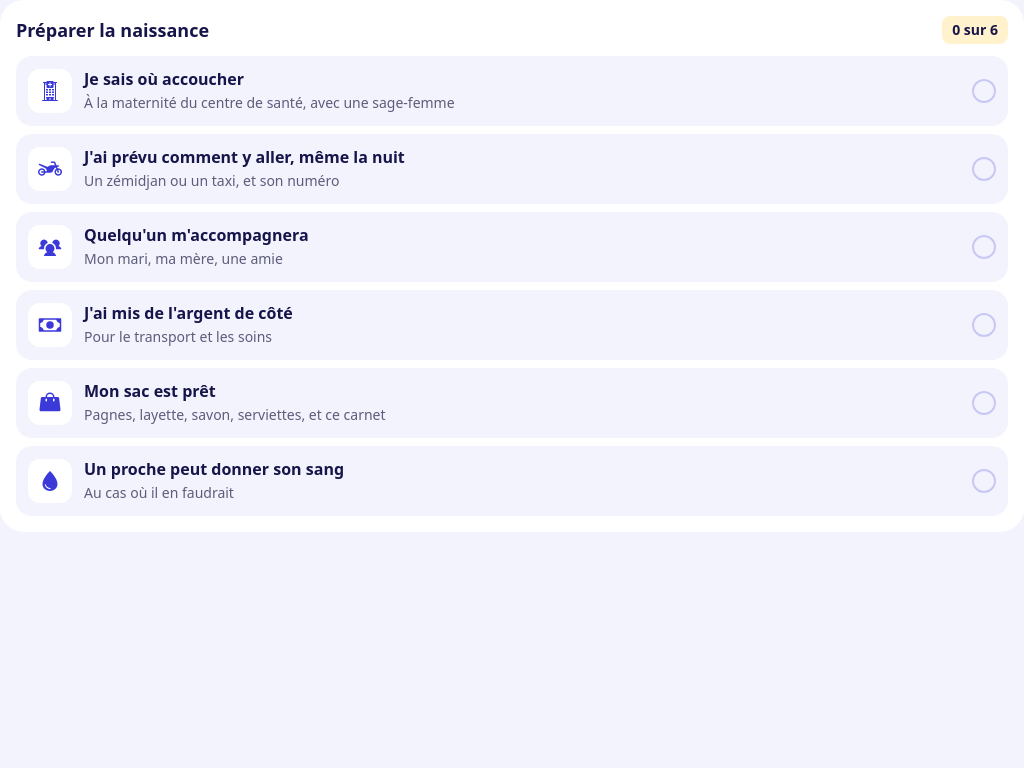
Test case: PlanNaissance › dit quand ce n'est pas enregistré
This screenshot has width=1024, height=768.
Click the checkbox labelled "Mon sac est prêt" at (50, 403), box [16,368,1008,438]
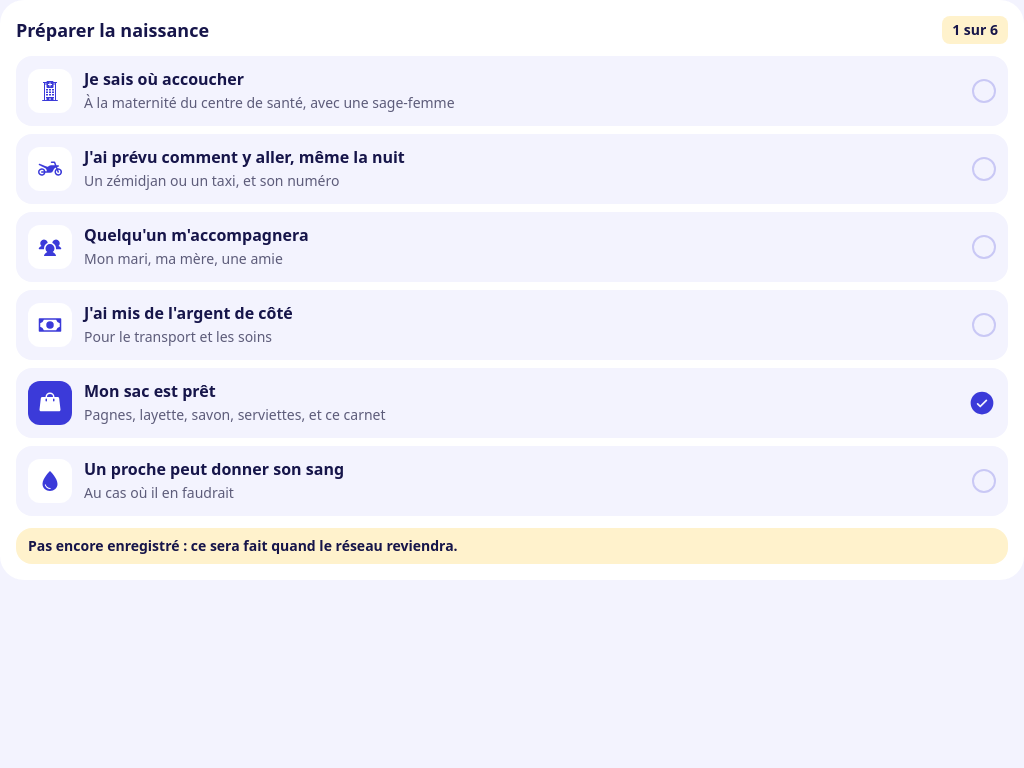
Check: the message shows "Pas encore enregistré", box [28,536,458,555]
